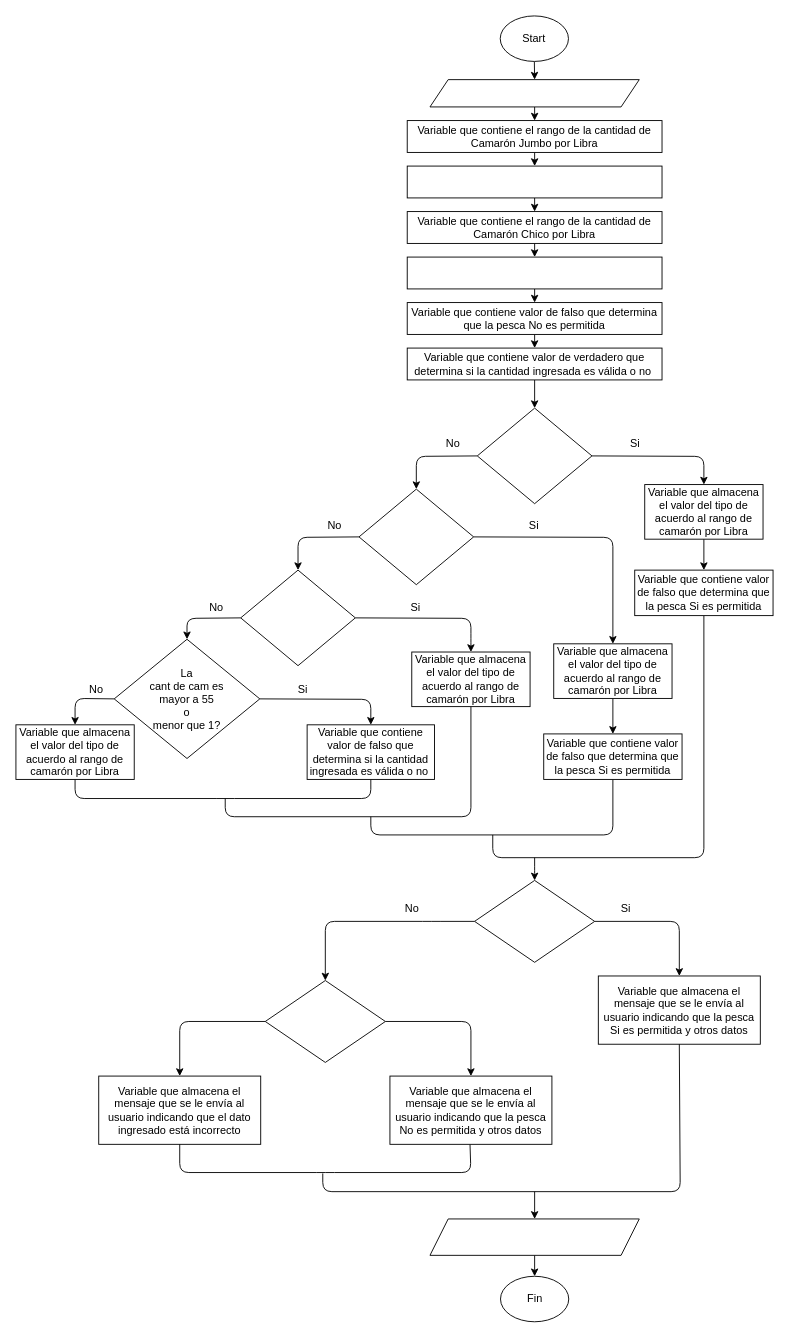
This 789x1338 diagram has some shape labels left out. Each missing label, with the box of its shape:
Es la pesca permitida?: (474, 880, 595, 962)
if valid_value != True: (264, 980, 385, 1062)
La cant de cam está en el rango de Jumbo?: (476, 407, 592, 504)
La cant de cam está en el rango de Mediano?: (358, 488, 474, 585)
La cant de cam está en el rango de Pequeño?: (240, 569, 355, 666)
Lectura de la cantidad de camarones: (429, 79, 639, 107)
Retorno del mensaje al flujo principal: (429, 1218, 639, 1255)
Variable que contiene el rango de la cantidad de Camarón Extra Chico por Libra: (406, 256, 662, 289)
Variable que contiene el rango de la cantidad de Camarón Mediano por Libra: (406, 165, 662, 198)
